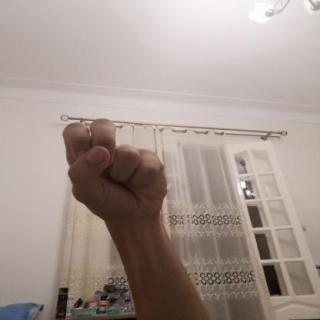QAAF: (51, 112, 181, 232)
